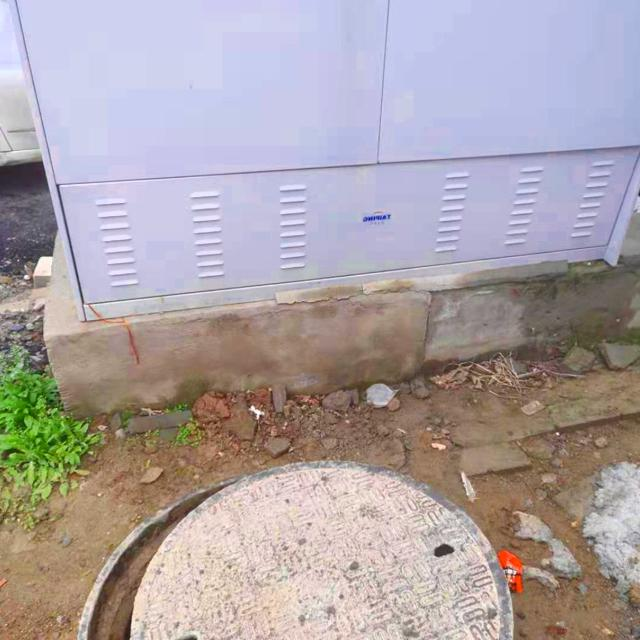uncovered: (30, 451, 517, 640)
